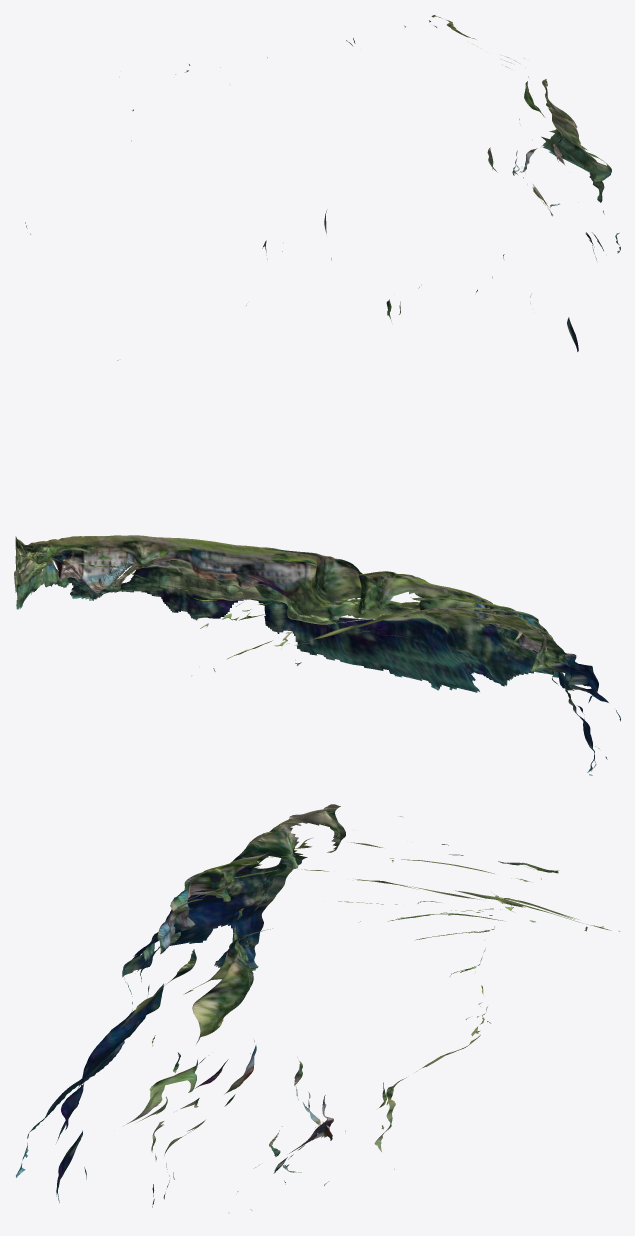
File: map_validated.glb
The picture shows the model from 3 angles, top to bottom: view 1: azimuth 30°, elevation 25°; view 2: azimuth 150°, elevation 25°; view 3: azimuth 270°, elevation 25°; orthographic projection. The views are drawn at different scales.
Visible parts, largest first — view 1: geometry_0; view 2: geometry_0; view 3: geometry_0.
Part boxes in pixels (bbox=[...]): geometry_0: bbox=[25, 15, 620, 360]; geometry_0: bbox=[14, 535, 620, 775]; geometry_0: bbox=[16, 804, 620, 1213].
Size of the model in its own units: 1.33 by 0.5586 by 1.11.
